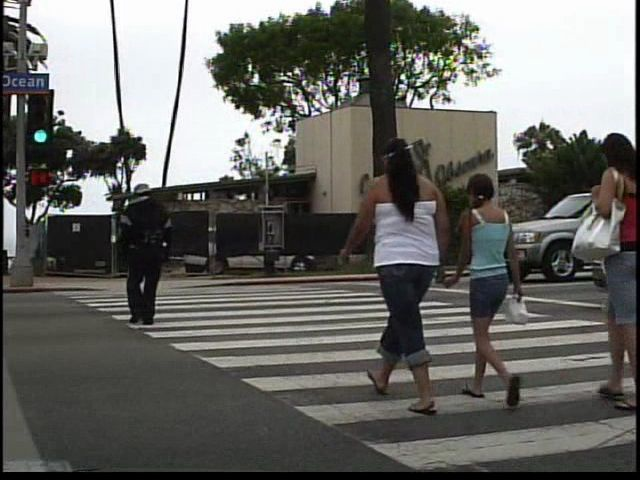person: (348, 125, 460, 416), (458, 167, 533, 419), (111, 179, 177, 336)
